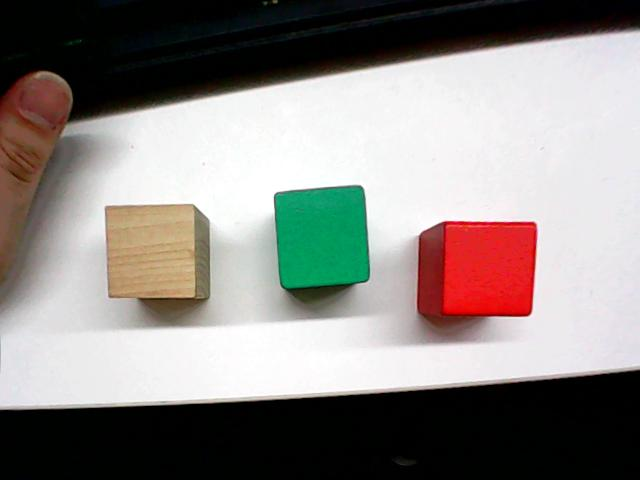green_box: (270, 181, 372, 292)
raw_box: (102, 199, 212, 303)
red_box: (414, 215, 540, 322)
